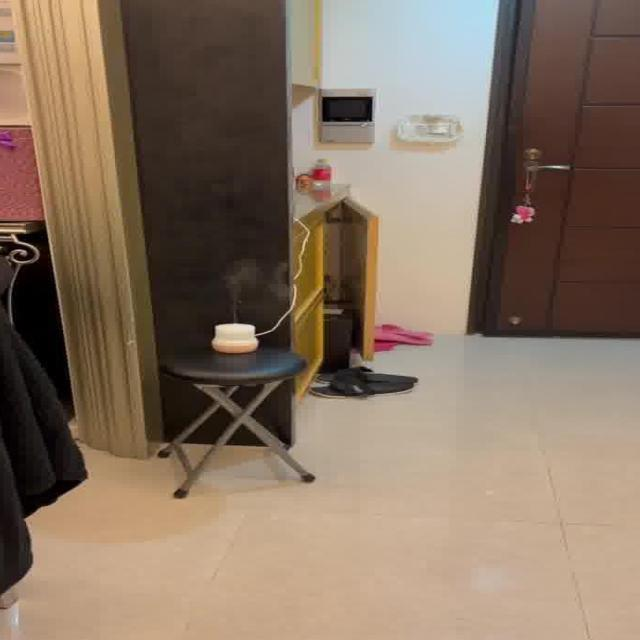fire: (214, 260, 272, 317)
